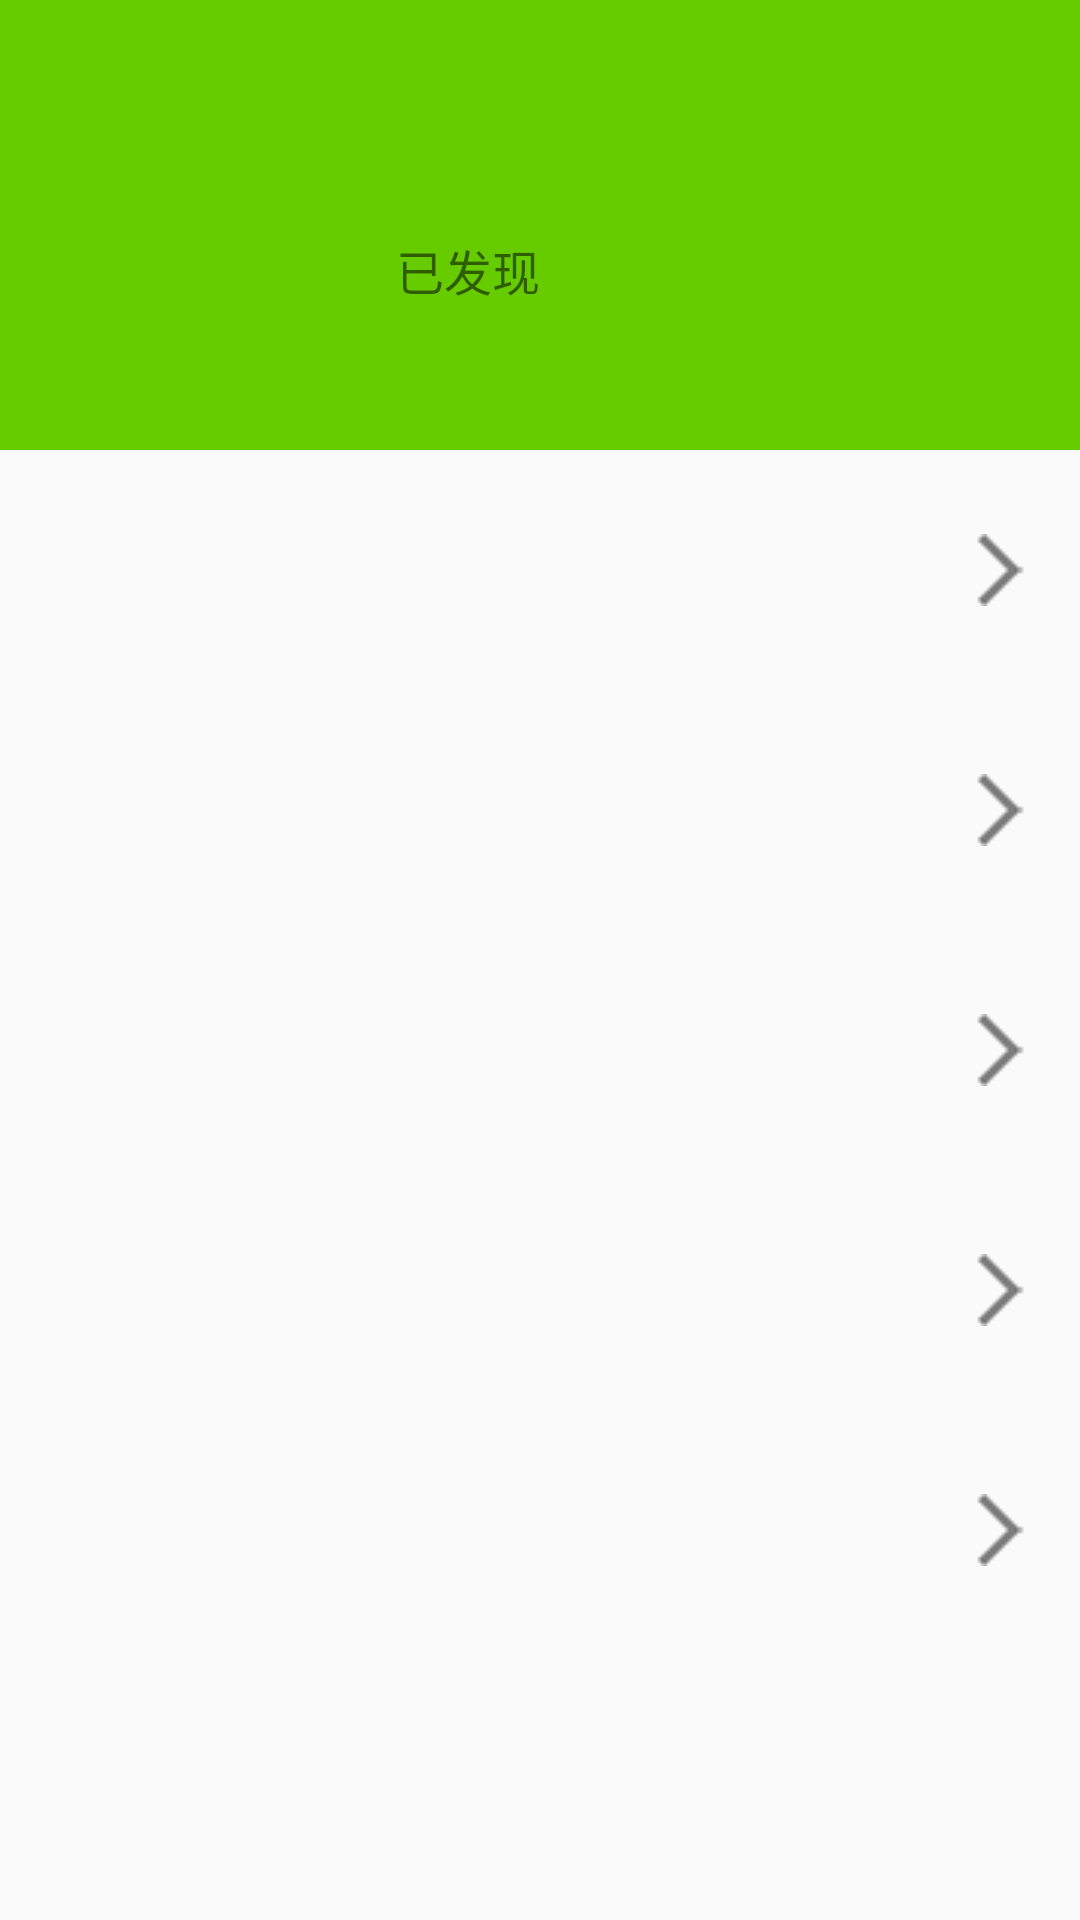

Where icons sit on this 1080px×1920px app screen, as (x1, y1, x2, y2):
arrows right: (978, 534, 1023, 606), (978, 774, 1023, 846), (978, 1014, 1023, 1086), (978, 1254, 1023, 1326), (978, 1494, 1023, 1566)
